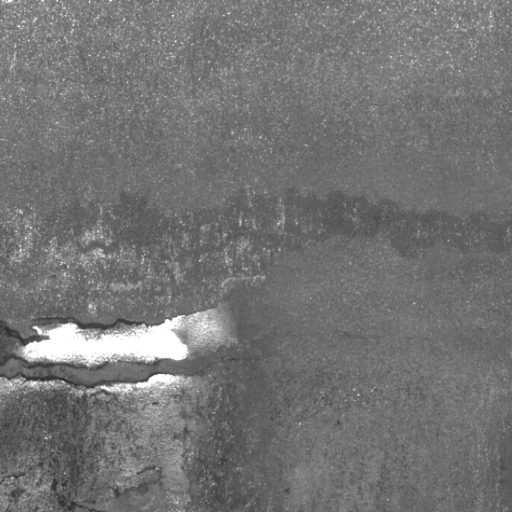qiaopi: (1, 301, 232, 394)
